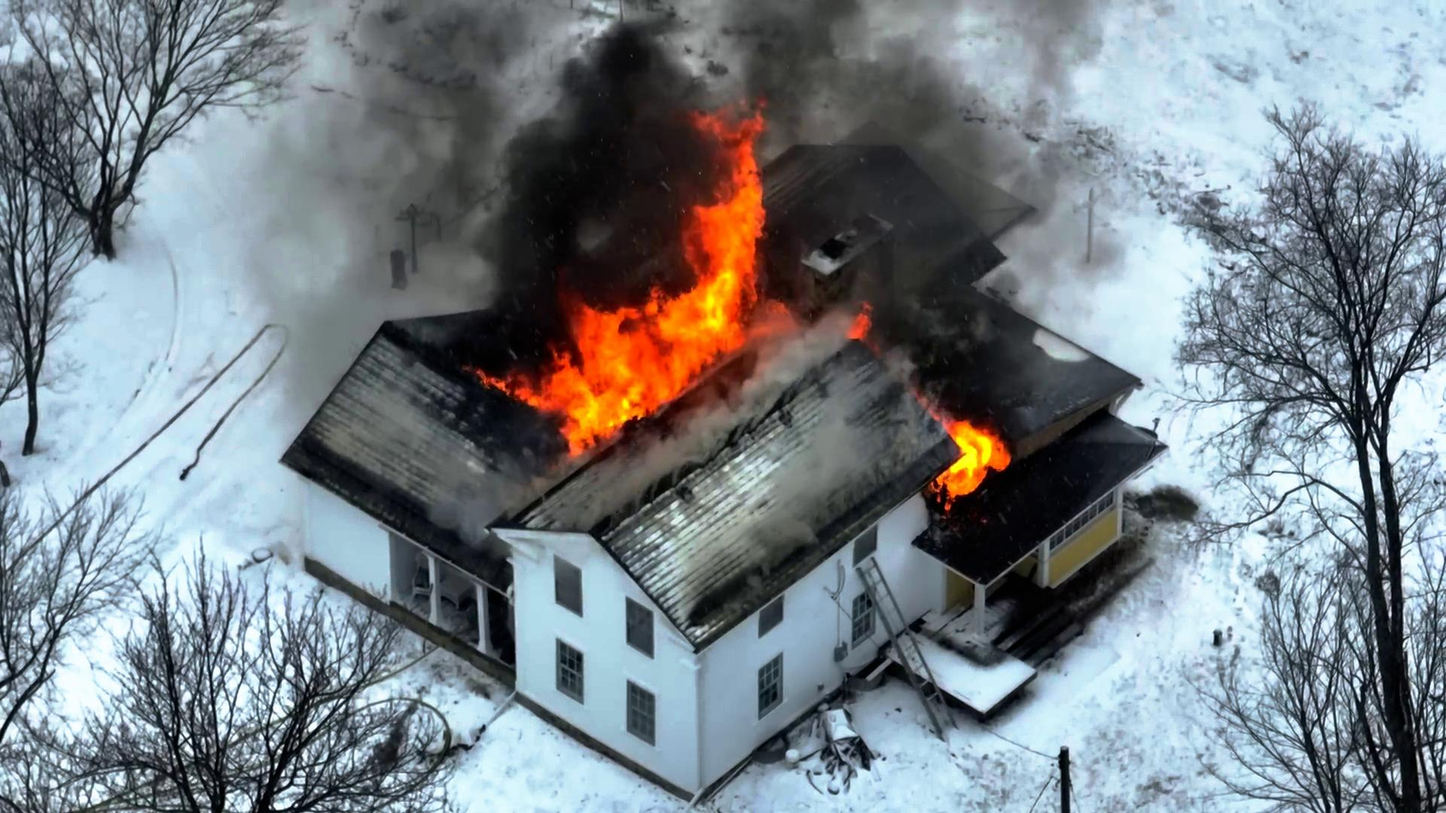fire: (556, 281, 769, 402), (479, 350, 667, 448), (684, 106, 763, 320), (929, 416, 1007, 512)
smoke: (502, 23, 667, 273)
